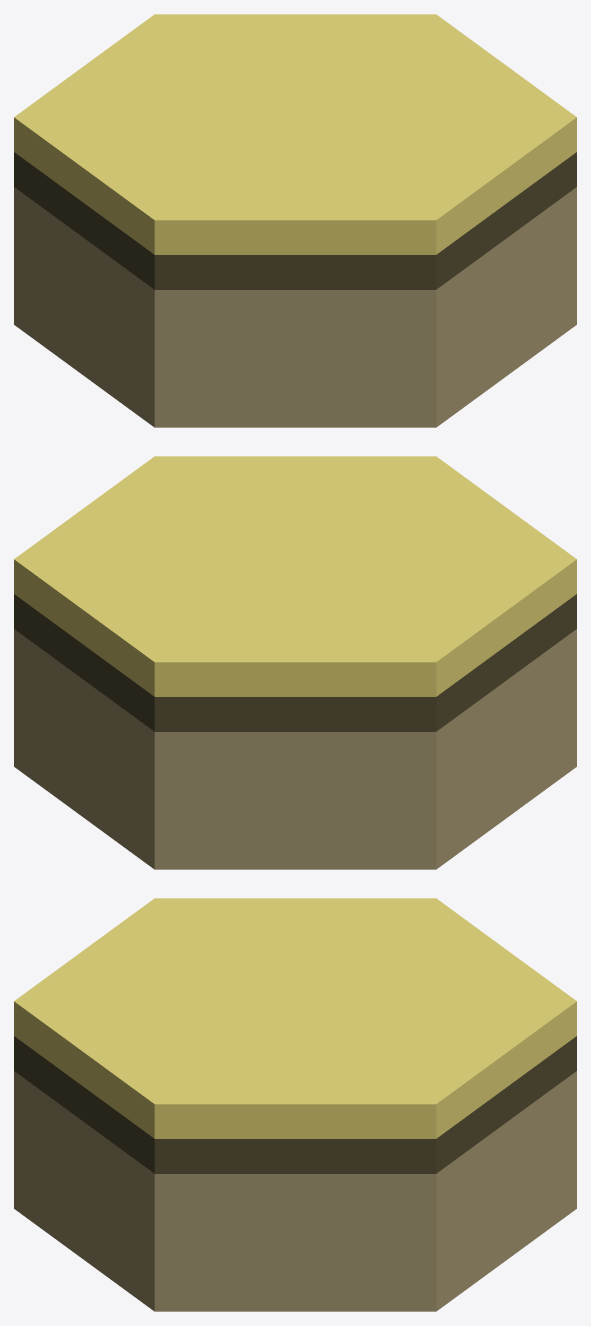
The model's file is sand.fbx.
3 renders of one model, top to bottom at view 1: azimuth 30°, elevation 25°; view 2: azimuth 150°, elevation 25°; view 3: azimuth 270°, elevation 25°, orthographic.
Visible parts, largest first — view 1: Cylinder.005; view 2: Cylinder.005; view 3: Cylinder.005.
Part boxes in pixels (bbox=[...]): Cylinder.005: bbox=[14, 14, 576, 427]; Cylinder.005: bbox=[14, 456, 576, 869]; Cylinder.005: bbox=[14, 898, 576, 1311].
Size of the model in its own units: 173 by 81.3 by 200.
